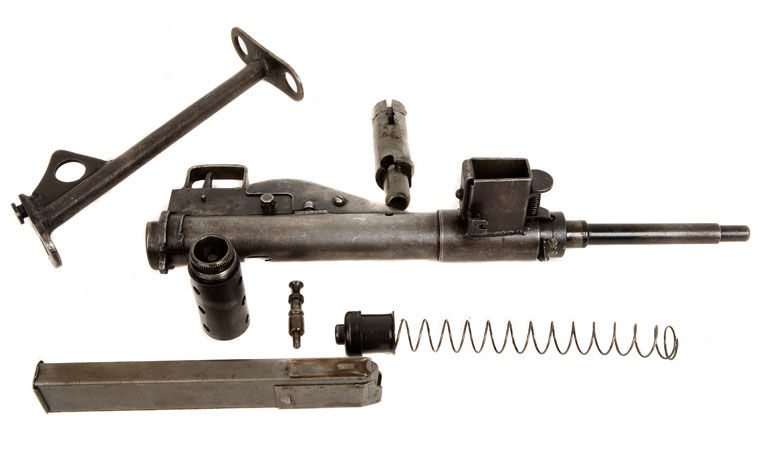rifle: (136, 144, 742, 336)
